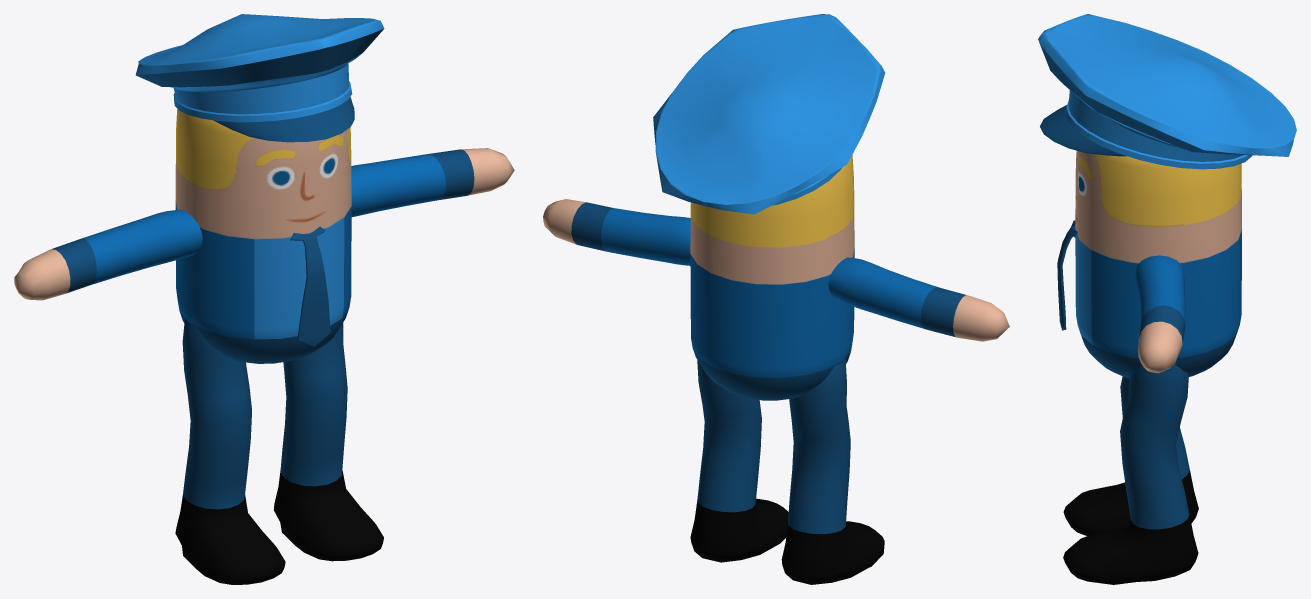
File: SK_PoliceMan.fbx
3 views of the same model, side by side, from view 1: azimuth 30°, elevation 25°; view 2: azimuth 150°, elevation 25°; view 3: azimuth 270°, elevation 25° (orthographic). The views are drawn at different scales.
Parts seen in each view (by area): view 1: SK_PoliceMan; view 2: SK_PoliceMan; view 3: SK_PoliceMan.
Boxes of the visible parts, x1,y1,x2,y2 form: SK_PoliceMan: [14, 14, 514, 584]; SK_PoliceMan: [543, 14, 1009, 584]; SK_PoliceMan: [1038, 14, 1296, 584].
Bounding box in the file's own units: 308 × 323 × 148.
